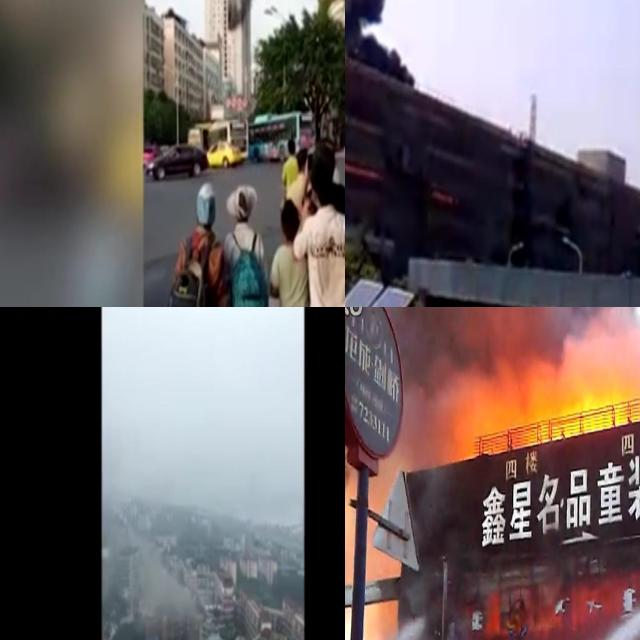smoke: (398, 307, 635, 394), (130, 526, 200, 622)
